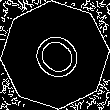O_SE: (21, 22, 89, 88)
